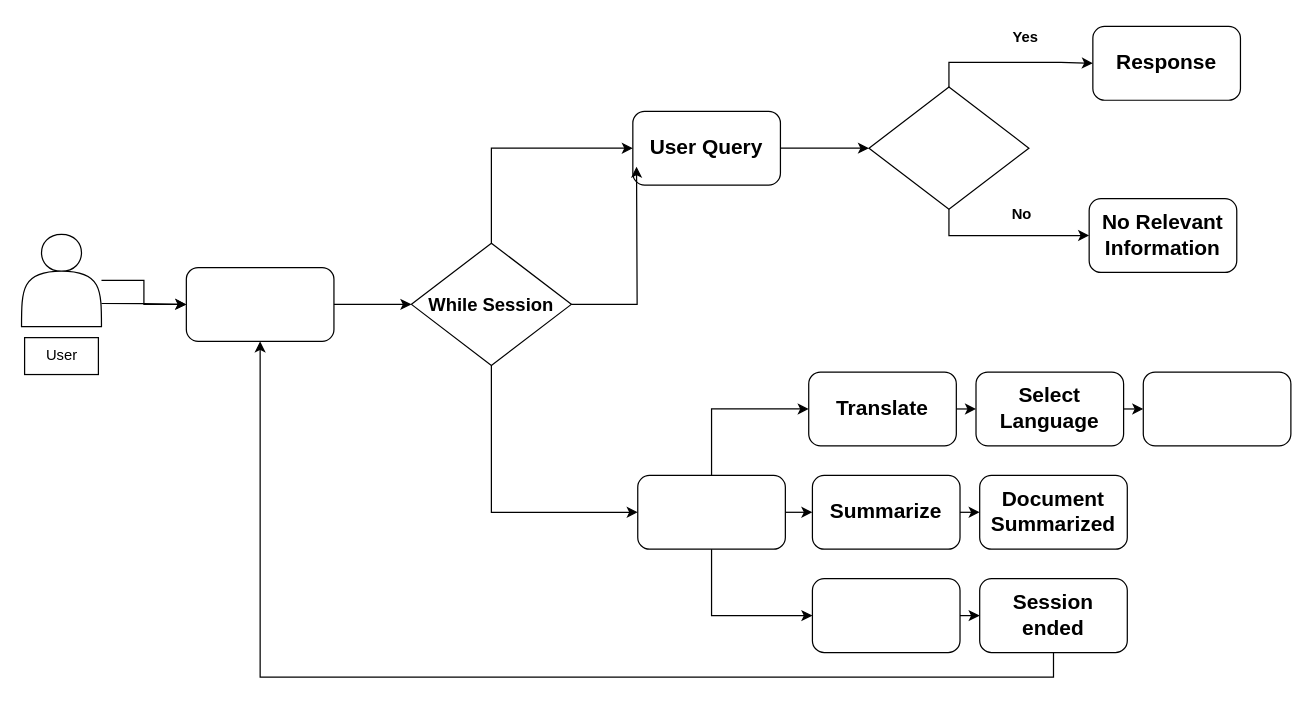
This 1312x708 diagram has some shape labels left out. The shapes that lost their labels are listed below. From the top down, each one's centre as x and y in pixels, then its label:
At pixel 948 147: "Relevant".
At pixel 259 303: "File Upload PDF/Audio".
At pixel 1216 408: "Translated Document".
At pixel 711 511: "Buttons".
At pixel 885 615: "Restart".
